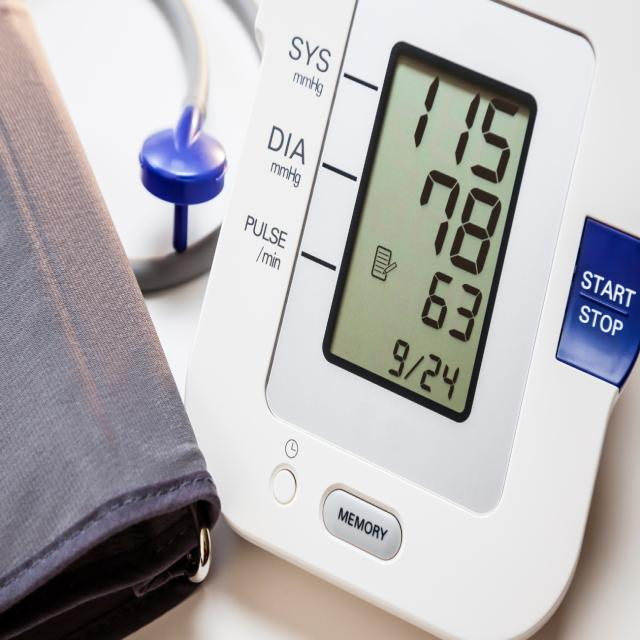dia: (385, 157, 524, 284)
pul: (406, 259, 492, 356)
ssd: (313, 41, 544, 418)
sys: (395, 60, 547, 194)
